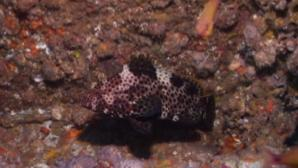Serranidae -Groupers-: (78, 49, 217, 135)
